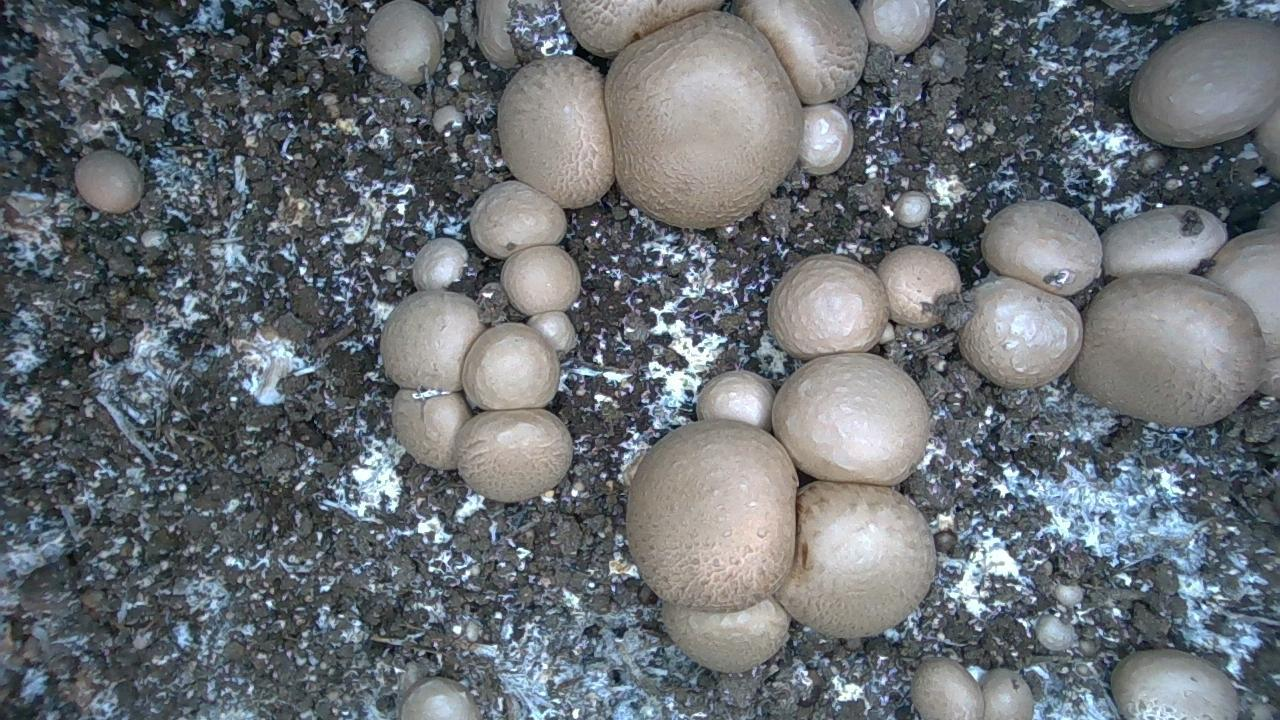BB: (605, 11, 802, 228), (626, 419, 797, 611), (1071, 273, 1264, 426), (776, 481, 935, 638), (772, 353, 929, 485), (1130, 18, 1279, 147), (498, 56, 613, 207), (959, 277, 1082, 388), (736, 0, 867, 104), (768, 254, 888, 360), (1207, 228, 1279, 397), (981, 201, 1101, 295), (455, 408, 572, 501), (380, 290, 483, 391), (662, 598, 789, 672), (561, 0, 722, 57), (1111, 649, 1239, 719), (1101, 205, 1226, 276), (462, 323, 559, 409), (877, 245, 973, 329), (470, 181, 566, 258), (366, 0, 442, 84), (392, 388, 470, 469), (501, 246, 580, 315), (696, 370, 774, 431), (911, 658, 983, 719), (75, 150, 143, 212), (859, 0, 935, 54), (799, 103, 853, 175), (400, 677, 480, 719), (412, 238, 467, 290), (980, 668, 1033, 719), (527, 311, 576, 354), (1254, 108, 1279, 178), (1035, 615, 1075, 650), (894, 191, 930, 227), (1104, 0, 1172, 14), (1054, 584, 1083, 606)
